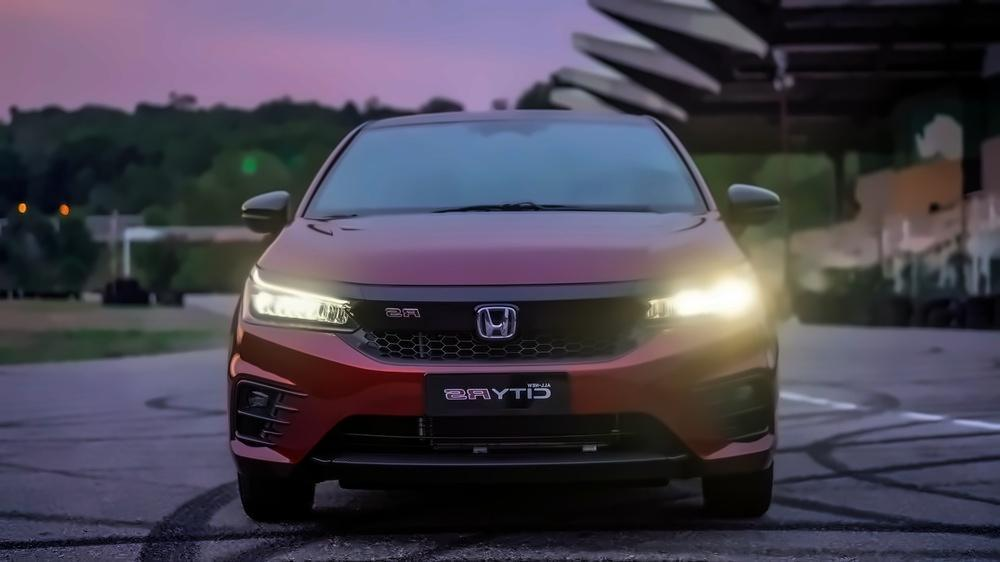Car hood: (252, 207, 750, 291)
Front bumper: (219, 321, 793, 489)
Headlight - -L-: (637, 267, 769, 333)
Headlight - -R-: (240, 263, 361, 336)
Side mirror - -L-: (720, 180, 786, 242)
Side mirror - -R-: (230, 187, 301, 241)
